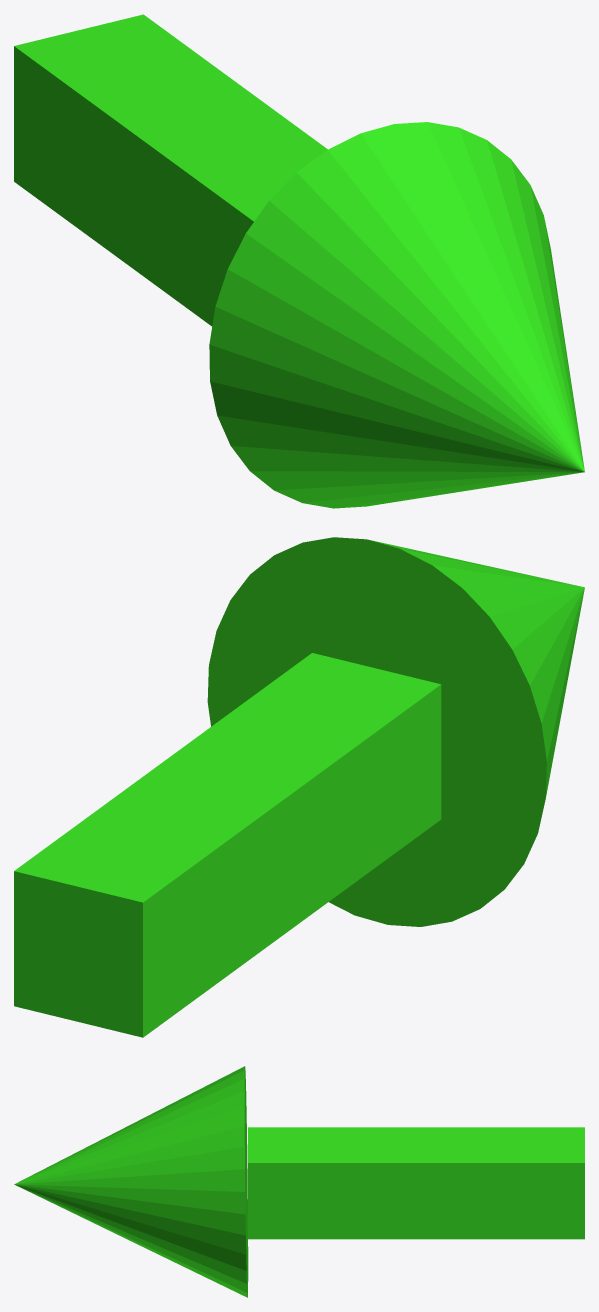
Rendered from arrow.fbx.
3 views of the same model, one above another, from view 1: azimuth 30°, elevation 25°; view 2: azimuth 150°, elevation 25°; view 3: azimuth 270°, elevation 25° (orthographic). The views are drawn at different scales.
Parts seen in each view (by area): view 1: Arrow; view 2: Arrow; view 3: Arrow.
Part boxes in pixels (x1=…): Arrow: x1=14, y1=14, x2=584, y2=508; Arrow: x1=14, y1=537, x2=584, y2=1037; Arrow: x1=14, y1=1066, x2=584, y2=1297.
Bounding box in the file's own units: 132 × 140 × 339.
